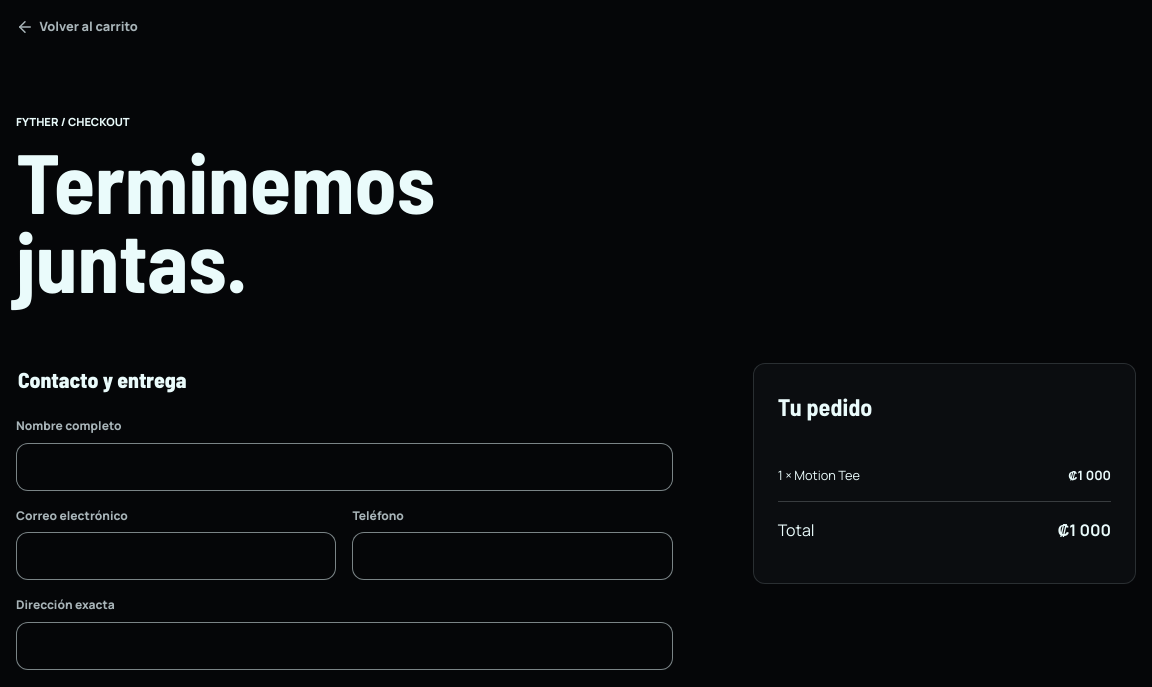
CheckoutClient › recovers from a rejected order request without clearing the form
Type "Steven" into the field labelled "Nombre completo" at (344, 467), box [16, 443, 673, 491]
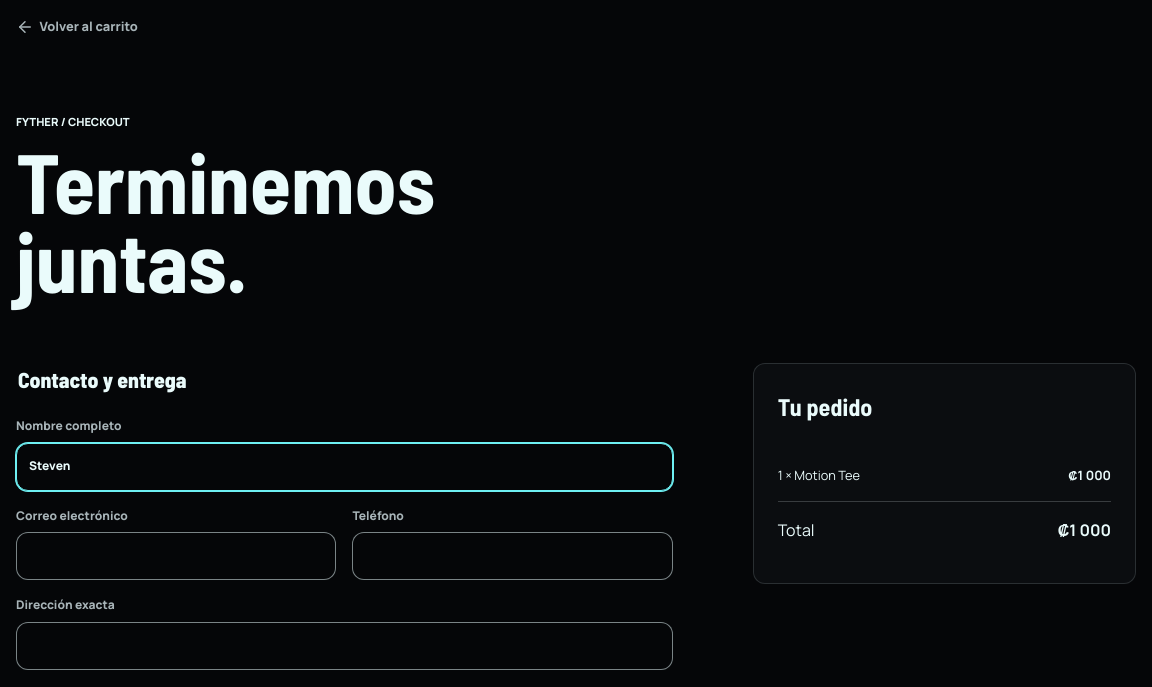
Type "steven@example.com" into the field labelled "Correo electrónico" at (176, 556), box [16, 532, 336, 580]
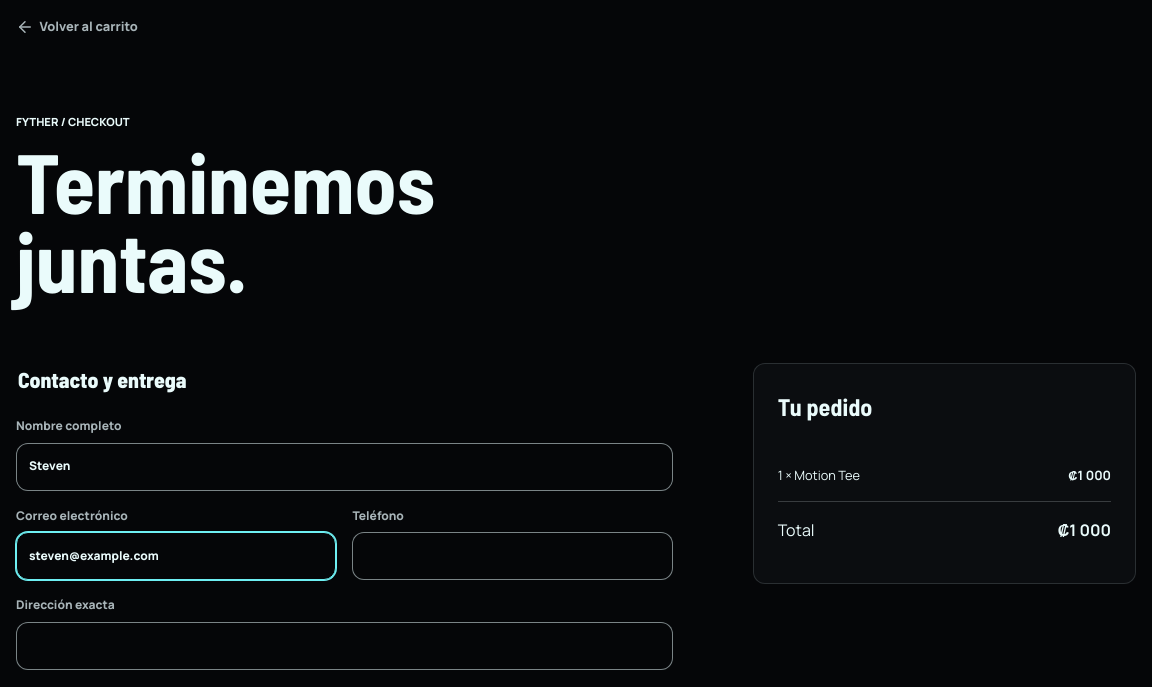
Type "San José, Costa Rica" into the field labelled "Dirección exacta" at (344, 646), box [16, 622, 673, 670]
(page scrolled)
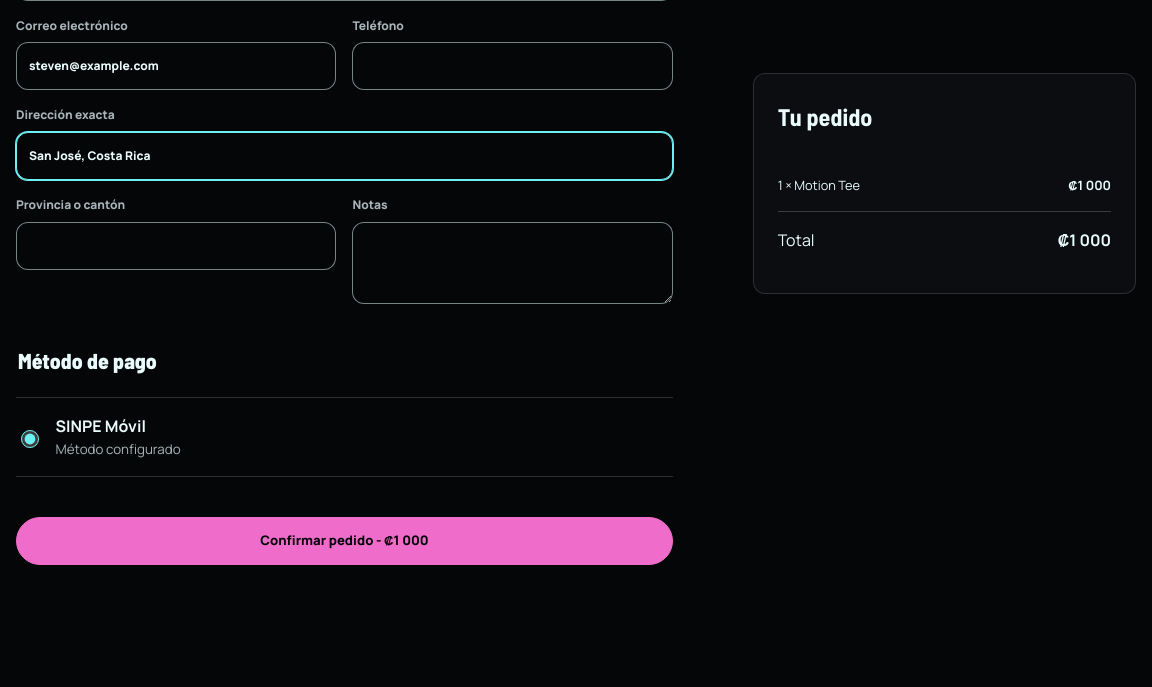
Click the button "Confirmar pedido - ₡1 000" at (344, 541), box [16, 517, 673, 565]
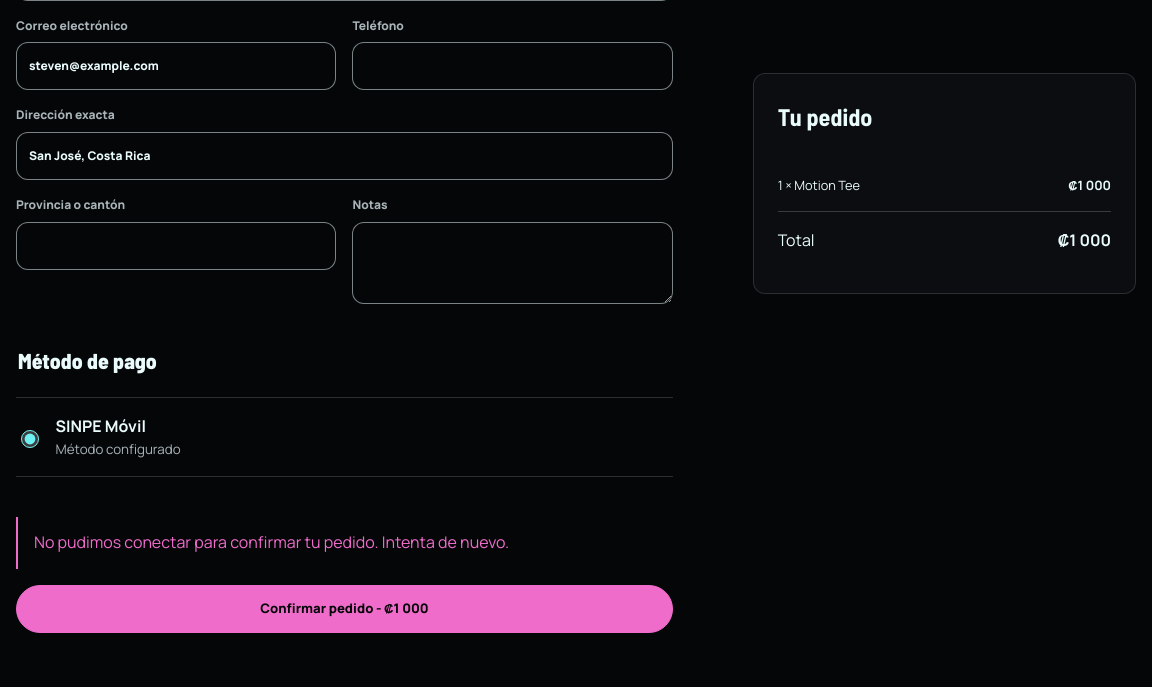
Expected: the button "Confirmar pedido - ₡1 000" is enabled, [16, 585, 673, 633]
Now the message reads "No pudimos conectar para confirmar tu pedido. Intenta de nuevo.", box [34, 531, 509, 553]
